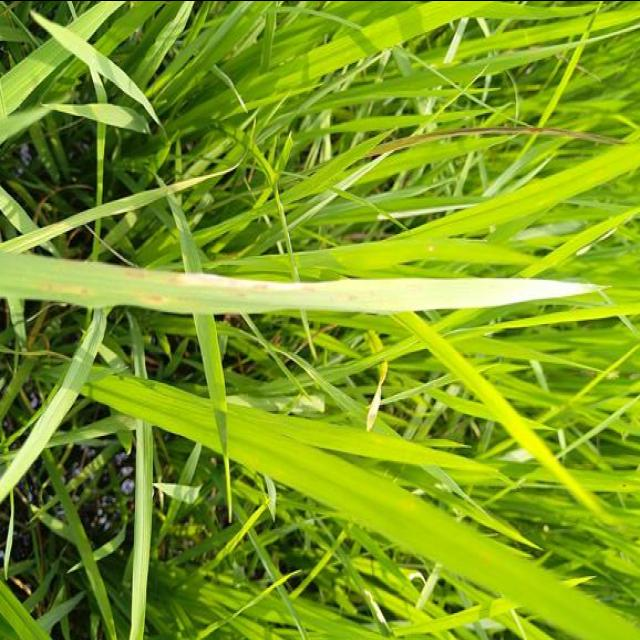Leaf Blight: (45, 257, 595, 314)
